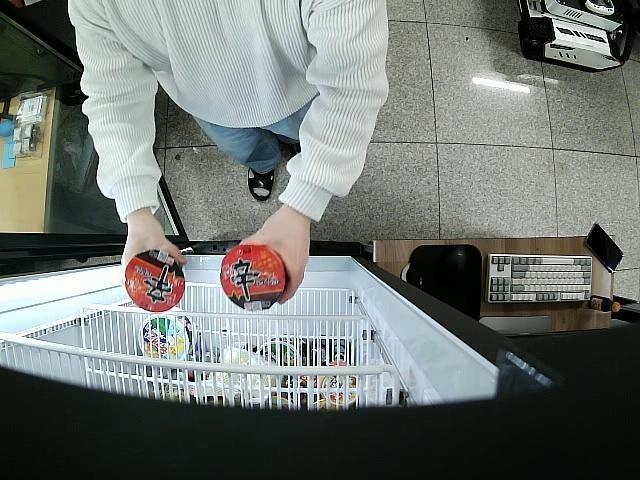02_shinRamen_S: (218, 244, 286, 314), (123, 248, 186, 312)
